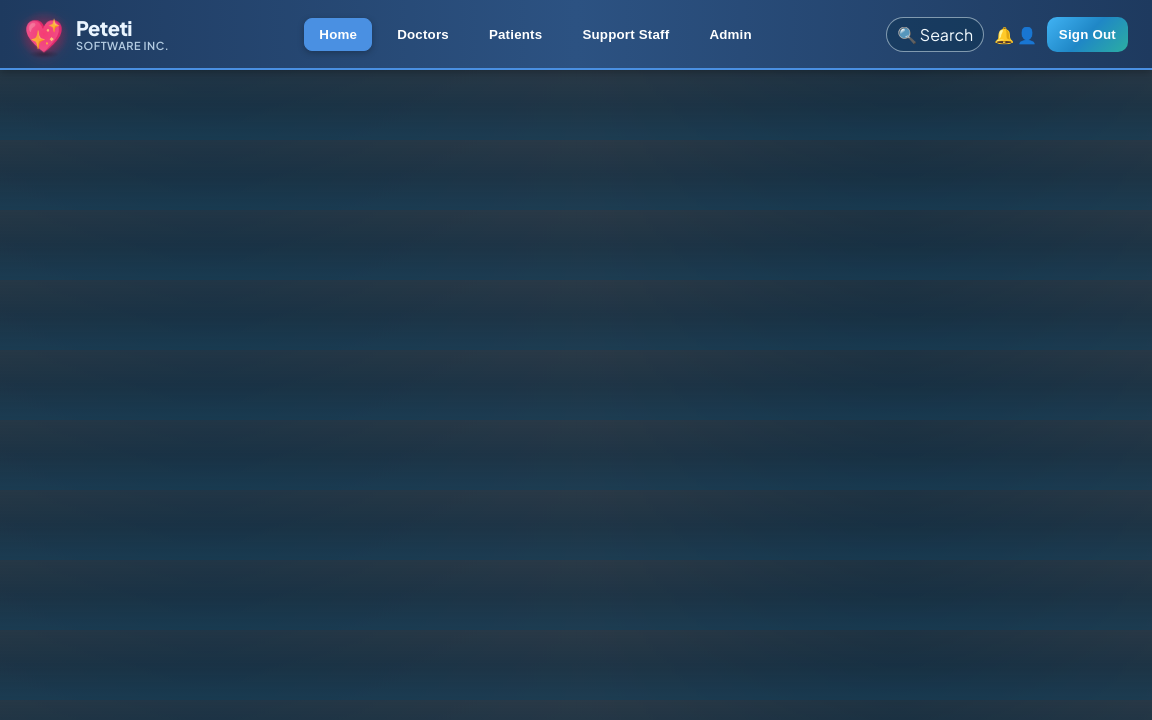
it: AppHeader menus › shows how many appointments need rescheduling
This screenshot has width=1152, height=720.
Click the button "Support Staff" at (626, 34), box [567, 18, 684, 50]
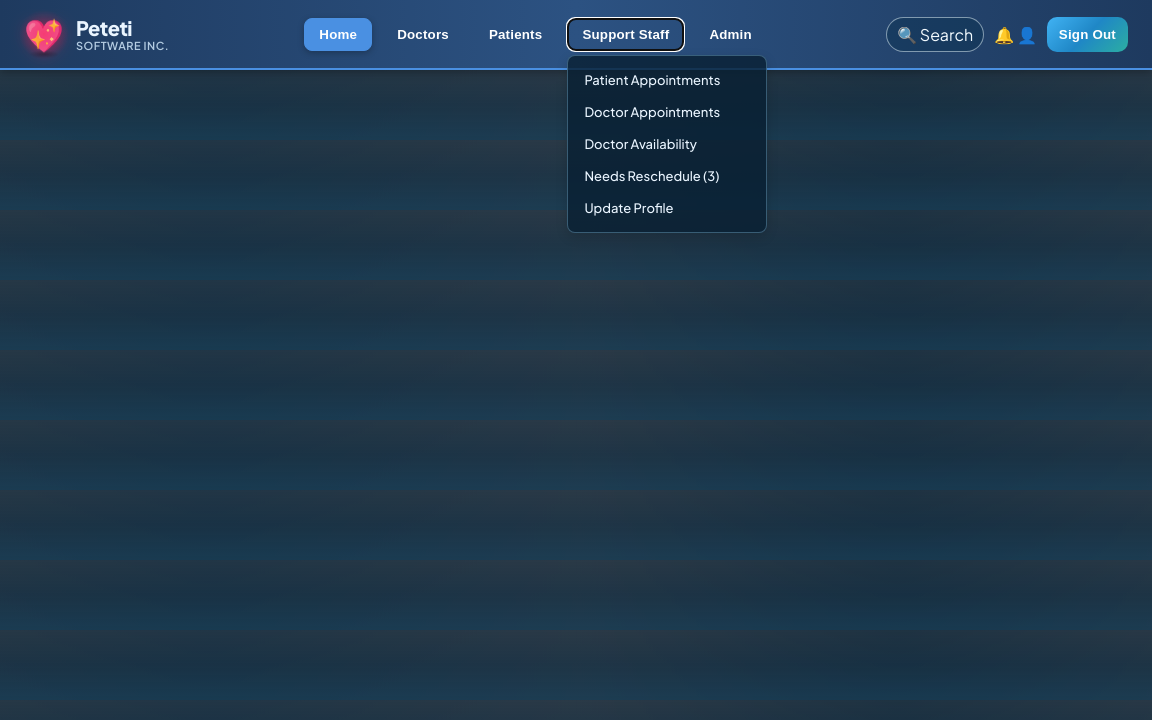
Check: the link "Needs Reschedule (3)" is shown, box [584, 168, 719, 184]
